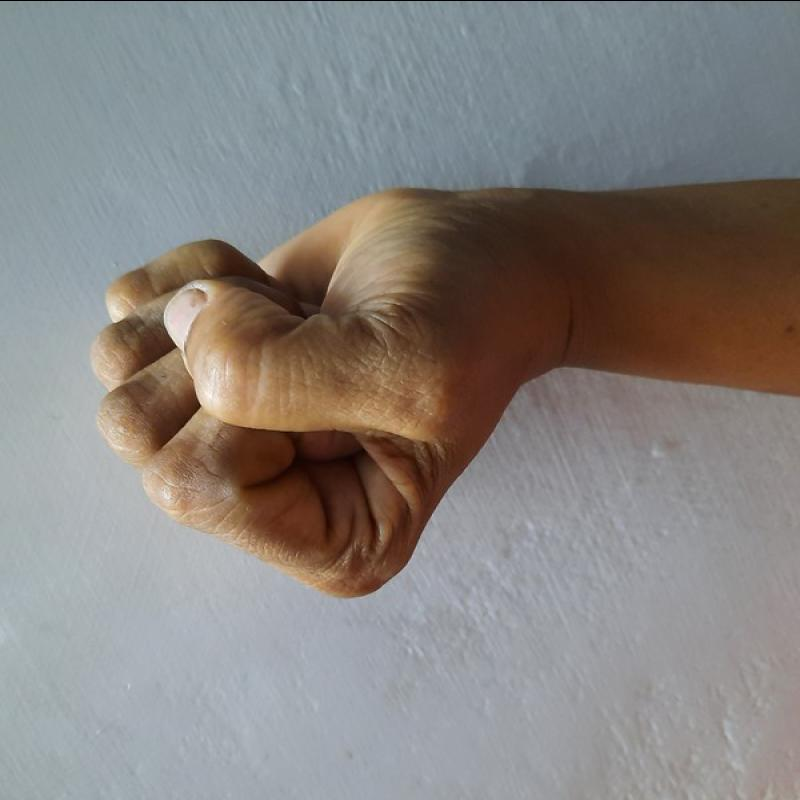Mushti: (81, 170, 531, 610)
